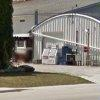Tree: (0, 0, 26, 75)
